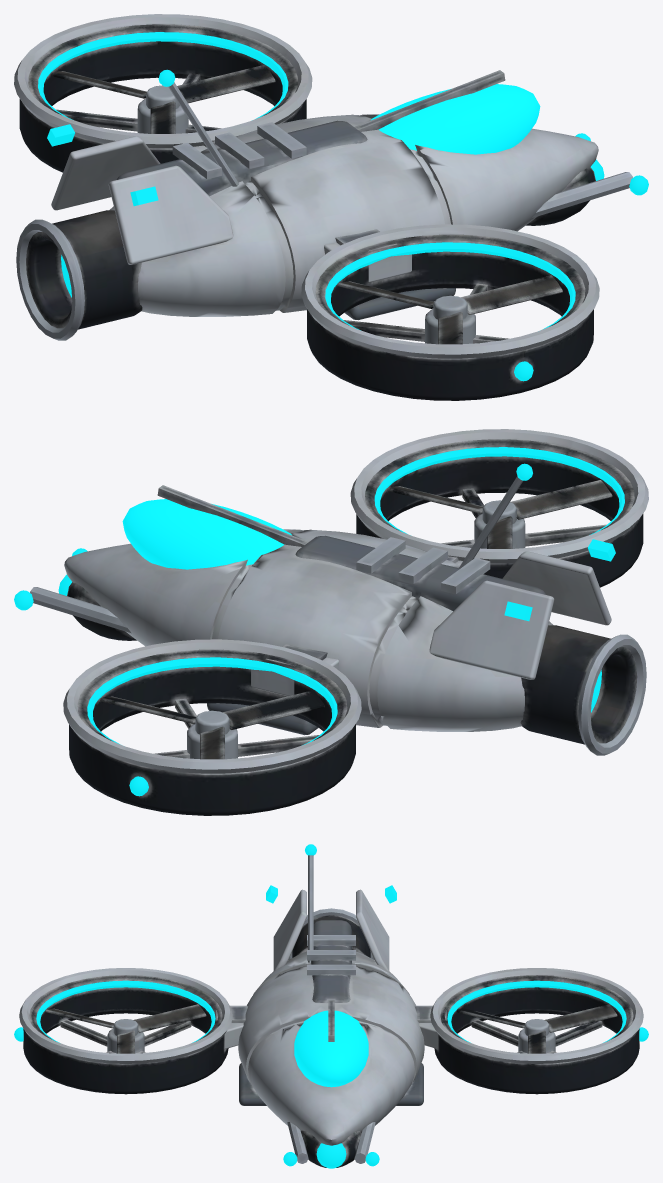
The model's file is scout.glb.
The picture shows the model from 3 angles, top to bottom: view 1: azimuth 30°, elevation 25°; view 2: azimuth 150°, elevation 25°; view 3: azimuth 270°, elevation 25°; orthographic projection. The views are drawn at different scales.
Parts seen in each view (by area): view 1: Hull, RotorBlades_R, RotorBlades_L; view 2: Hull, RotorBlades_L, RotorBlades_R; view 3: Hull, RotorBlades_R, RotorBlades_L.
Boxes of the visible parts, x1,y1,x2,y2 form: Hull: (14, 14, 648, 400); RotorBlades_R: (338, 275, 562, 344); RotorBlades_L: (50, 65, 275, 133); Hull: (14, 429, 648, 815); RotorBlades_L: (100, 690, 324, 759); RotorBlades_R: (387, 480, 612, 548); Hull: (14, 844, 648, 1168); RotorBlades_R: (45, 1004, 206, 1053); RotorBlades_L: (456, 1004, 617, 1053).
Bounding box in the file's own units: 2.3 × 0.9778 × 3.09.
Materials: 5 (3 with a texture image).
